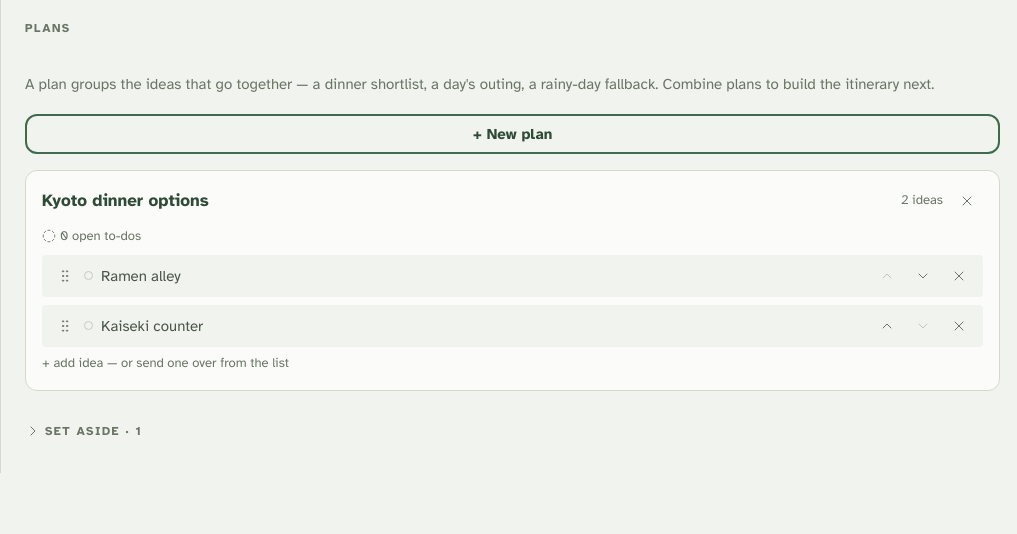
Test case: BundlePanel — the plans-only rail › keeps set-aside bundles recoverable from the foot of the rail
Click the button "Set aside · 1": (84, 432) [25,420,142,444]
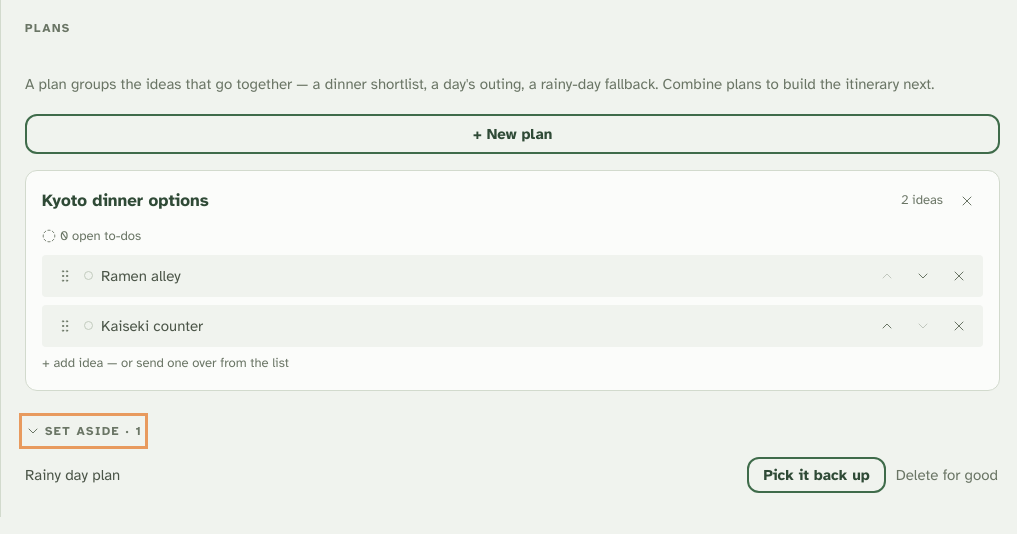
Check: the text "Rainy day plan" is shown, box [25,463,120,488]
Check: the button "Pick it back up" is shown, box [747,457,886,493]
